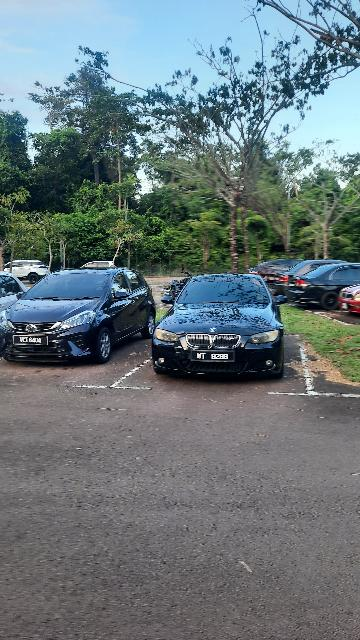License_Plate: (192, 350, 236, 365), (13, 335, 51, 347)
car: (149, 271, 292, 384), (3, 269, 158, 366)
